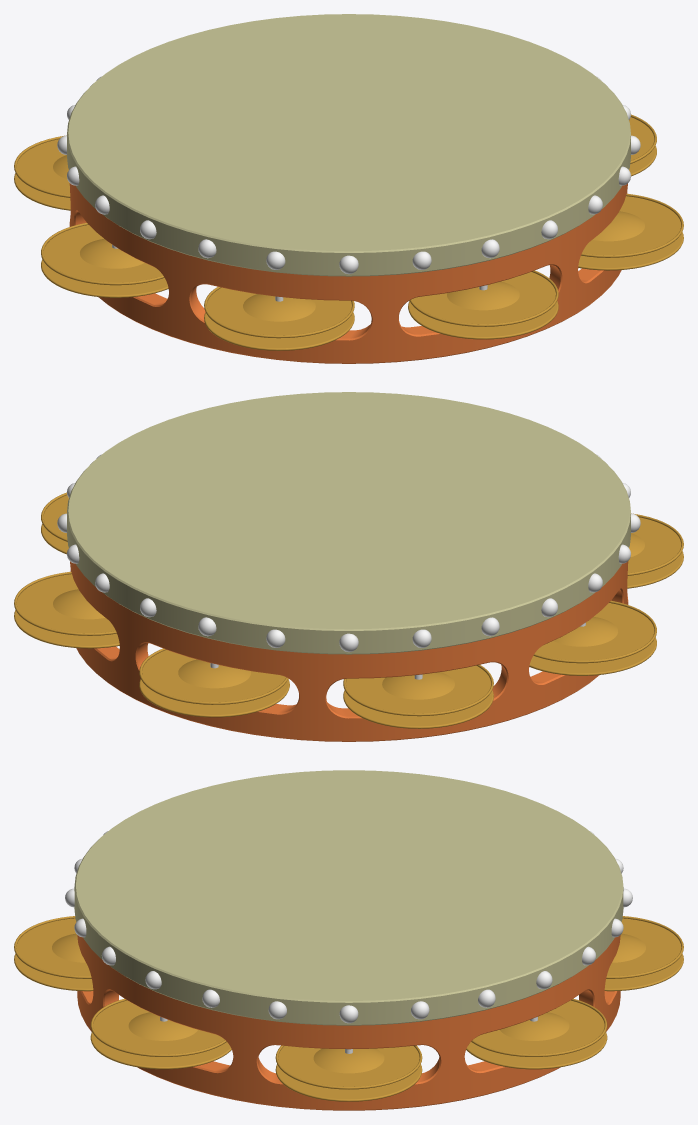
Rendered from Tambourine.fbx.
3 views of the same model, one above another, from view 1: azimuth 30°, elevation 25°; view 2: azimuth 150°, elevation 25°; view 3: azimuth 270°, elevation 25° (orthographic). The views are drawn at different scales.
Parts seen in each view (by area): view 1: Body - Part 3, Body - Part, Body - Part 2, Body - Part 4; view 2: Body - Part 3, Body - Part, Body - Part 2, Body - Part 4; view 3: Body - Part 3, Body - Part, Body - Part 2, Body - Part 4.
Part boxes in pixels (bbox=[...]): Body - Part 3: bbox=[67, 14, 630, 276]; Body - Part: bbox=[14, 114, 683, 350]; Body - Part 2: bbox=[69, 183, 627, 363]; Body - Part 4: bbox=[57, 76, 640, 301]; Body - Part 3: bbox=[67, 392, 630, 654]; Body - Part: bbox=[14, 492, 683, 728]; Body - Part 2: bbox=[70, 561, 628, 741]; Body - Part 4: bbox=[57, 454, 640, 679]; Body - Part 3: bbox=[74, 770, 623, 1025]; Body - Part: bbox=[14, 916, 683, 1101]; Body - Part 2: bbox=[77, 935, 620, 1110]; Body - Part 4: bbox=[65, 831, 632, 1053].
Size of the model in its own units: 49300 by 9000 by 49300.
